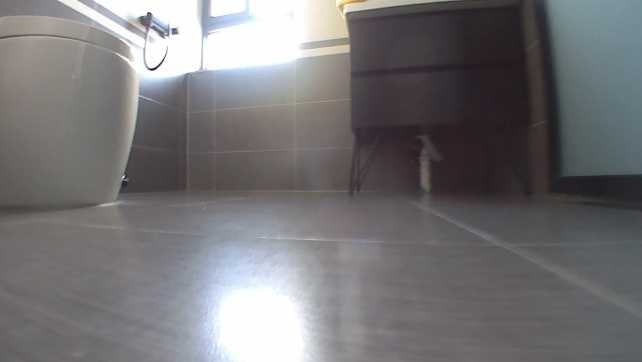toilet: (0, 14, 141, 215)
